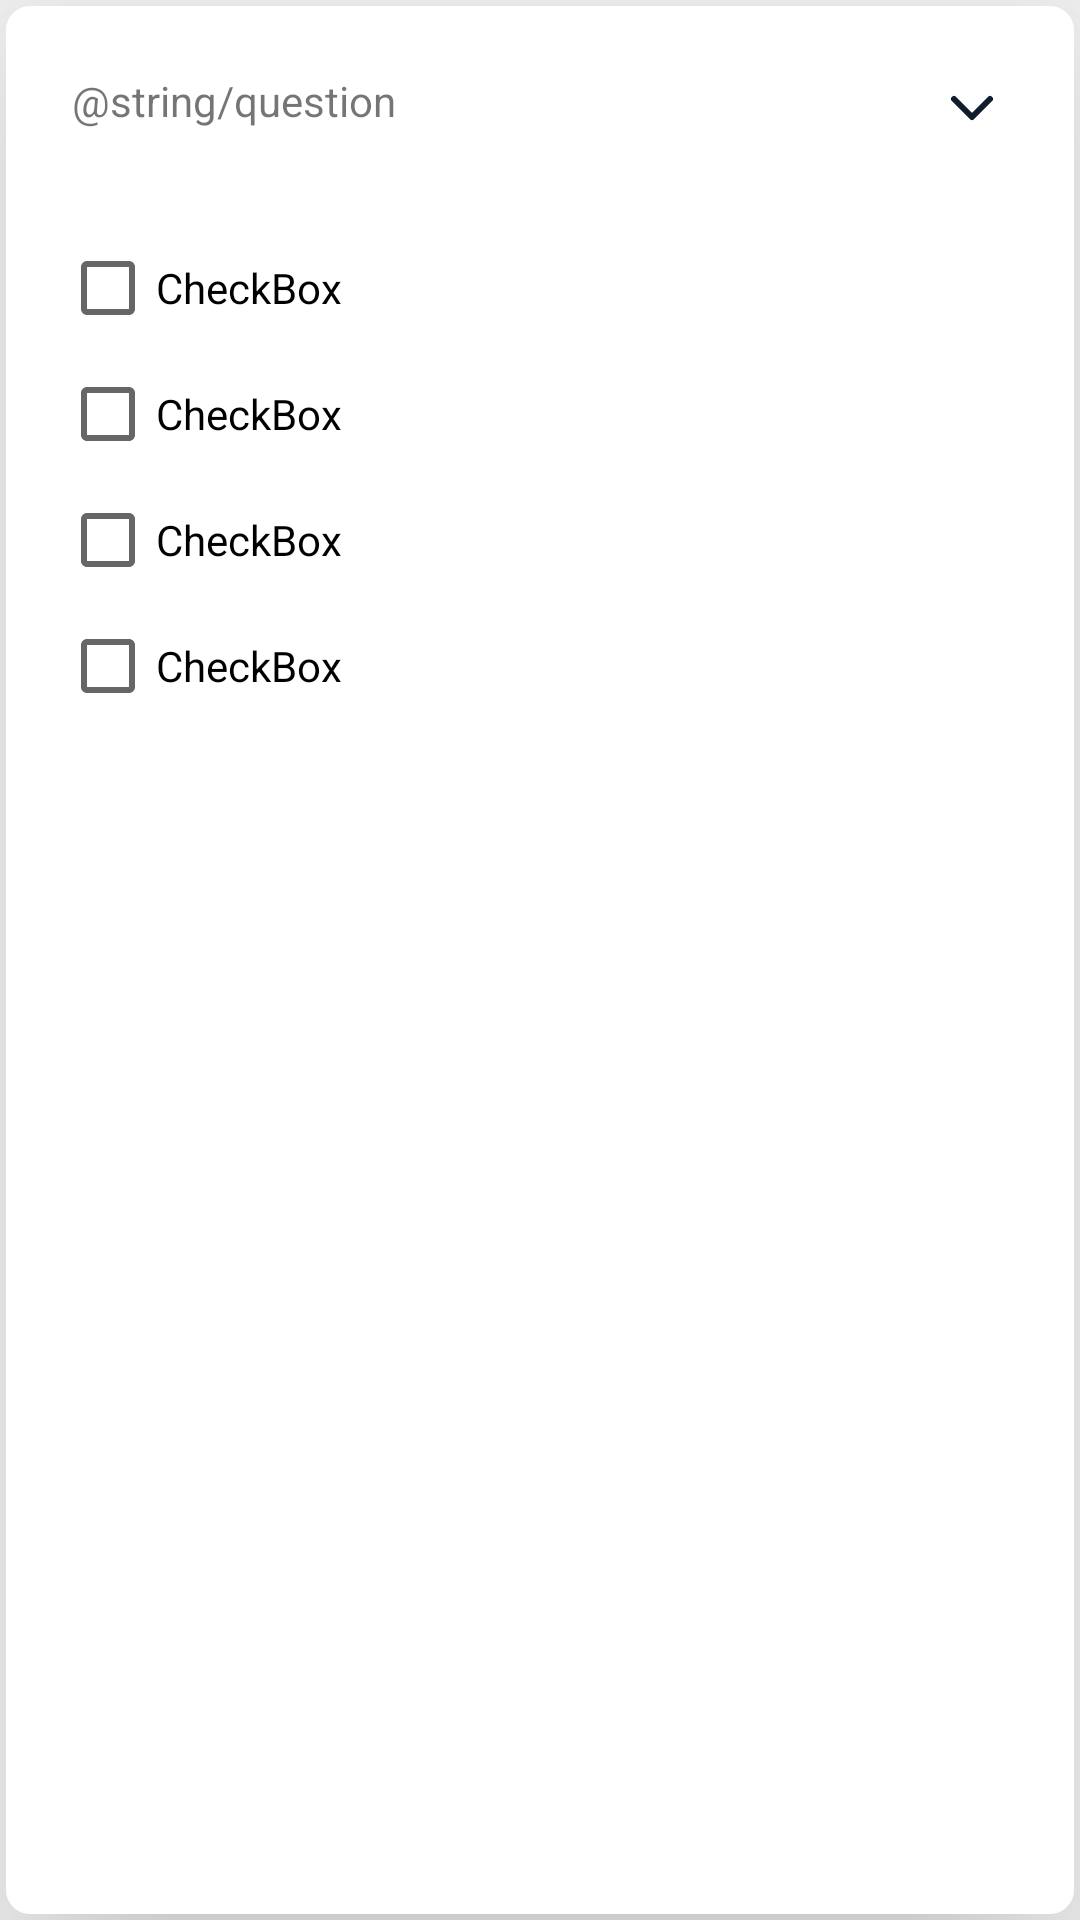

Named icons in this screenshot (1080×1920) and their centers, (x,y):
Expand/Collapse Arrow: (972,108)
